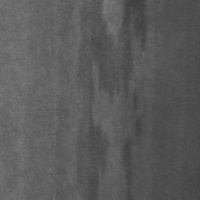inclusion: (81, 0, 153, 106), (71, 82, 110, 199), (119, 109, 150, 198)
